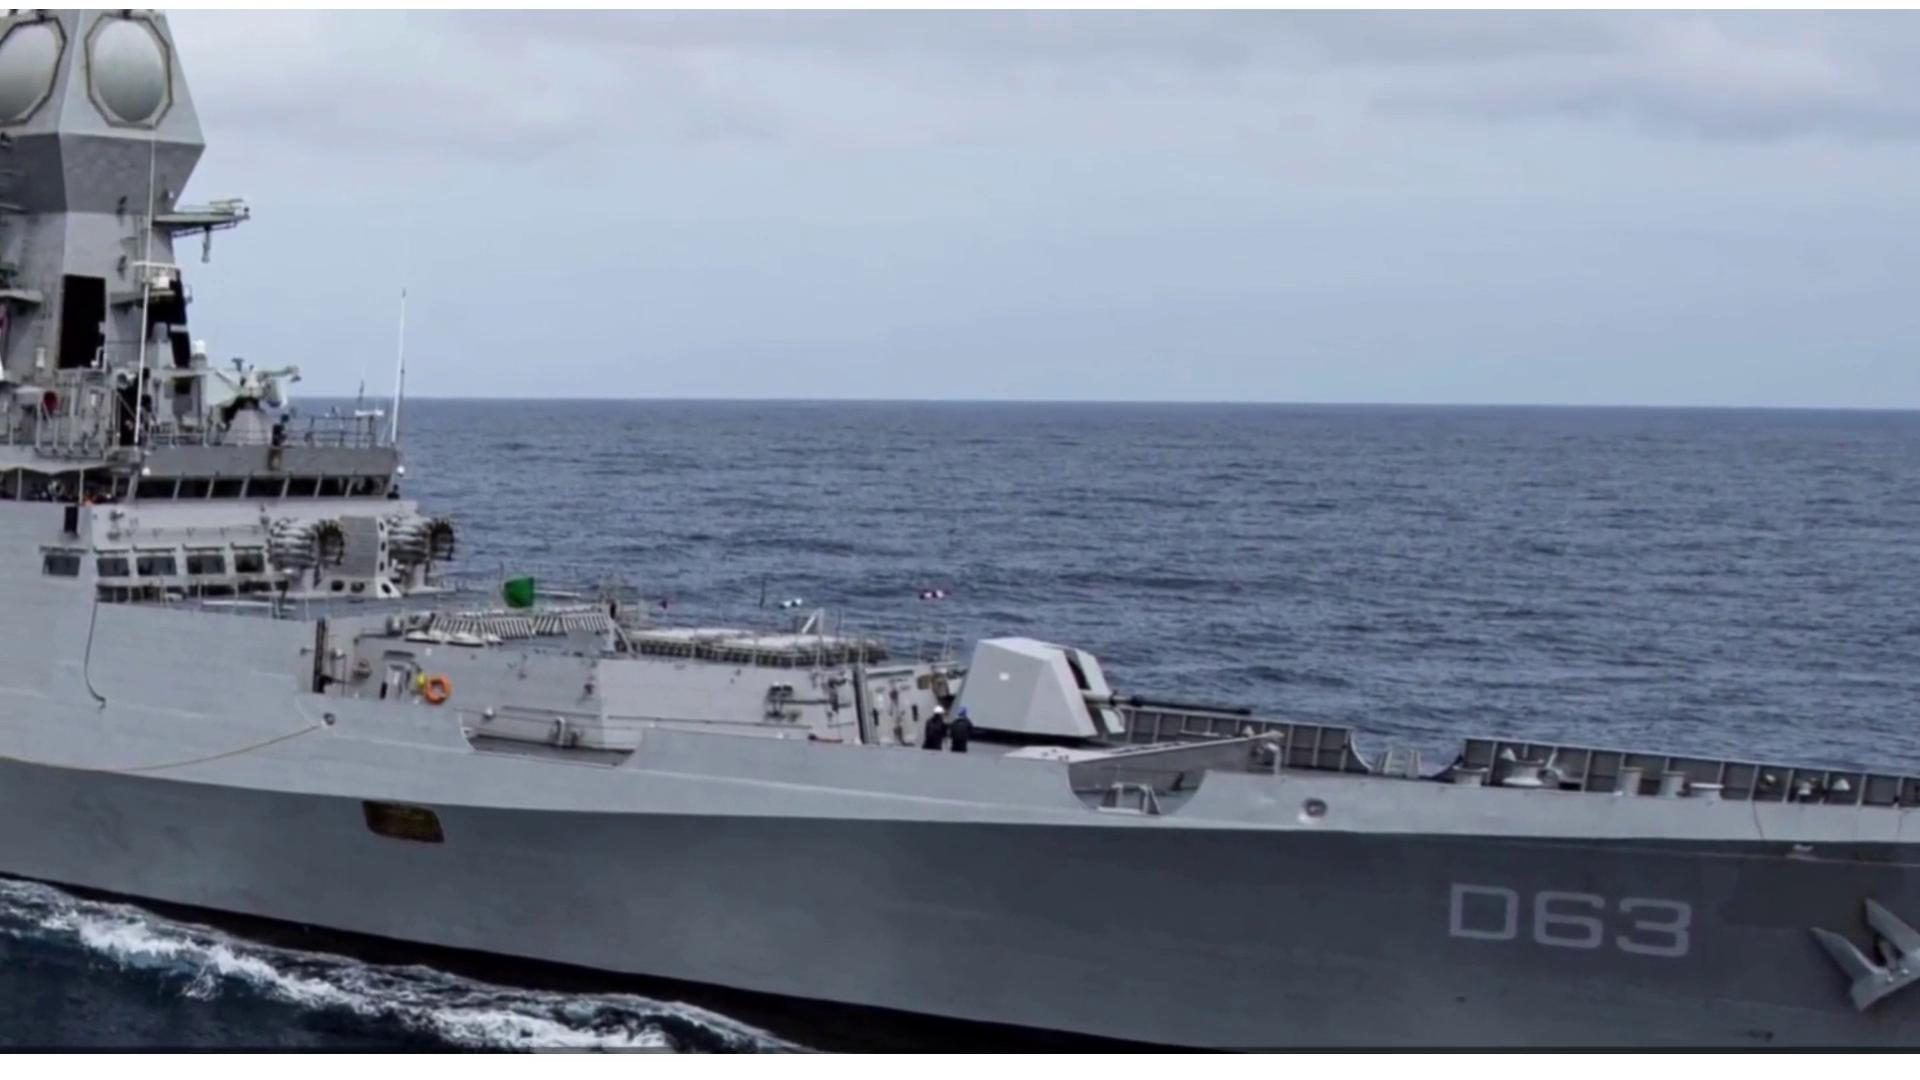OCR: (1433, 873, 1702, 972)
